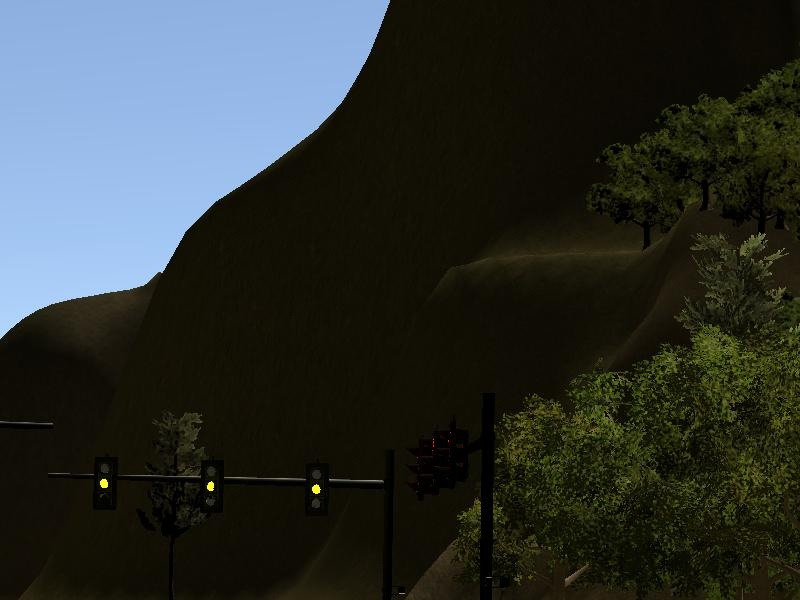YELLOW: (90, 455, 119, 513), (196, 457, 225, 513), (304, 462, 330, 518)
